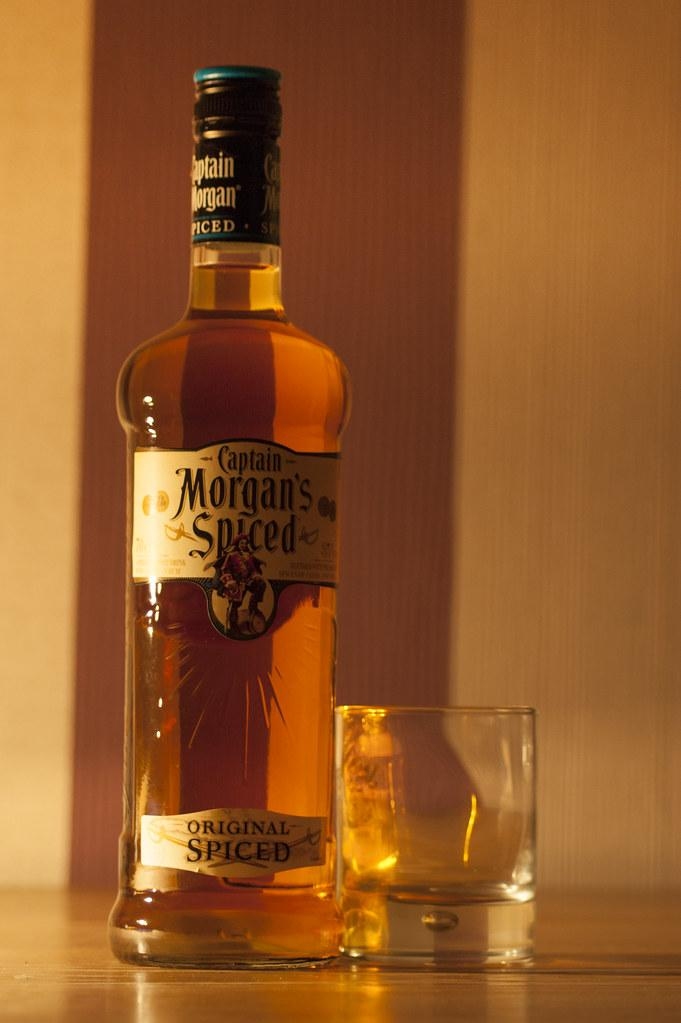bottle: (109, 64, 353, 971)
